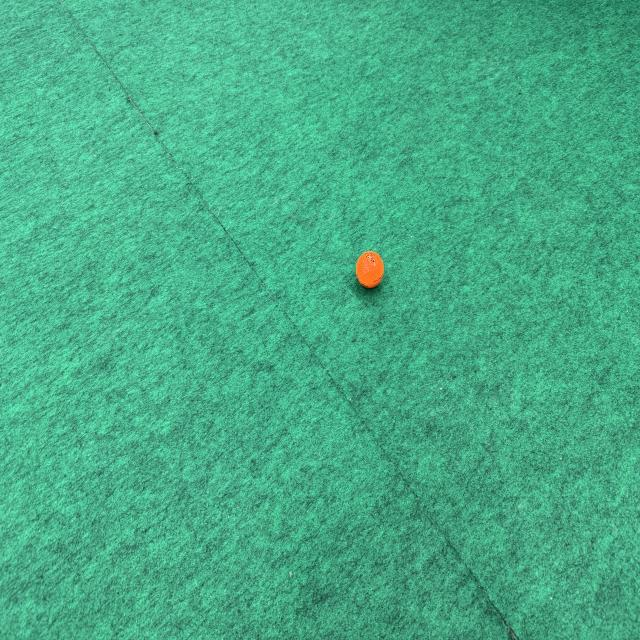ball: (355, 248, 386, 291)
